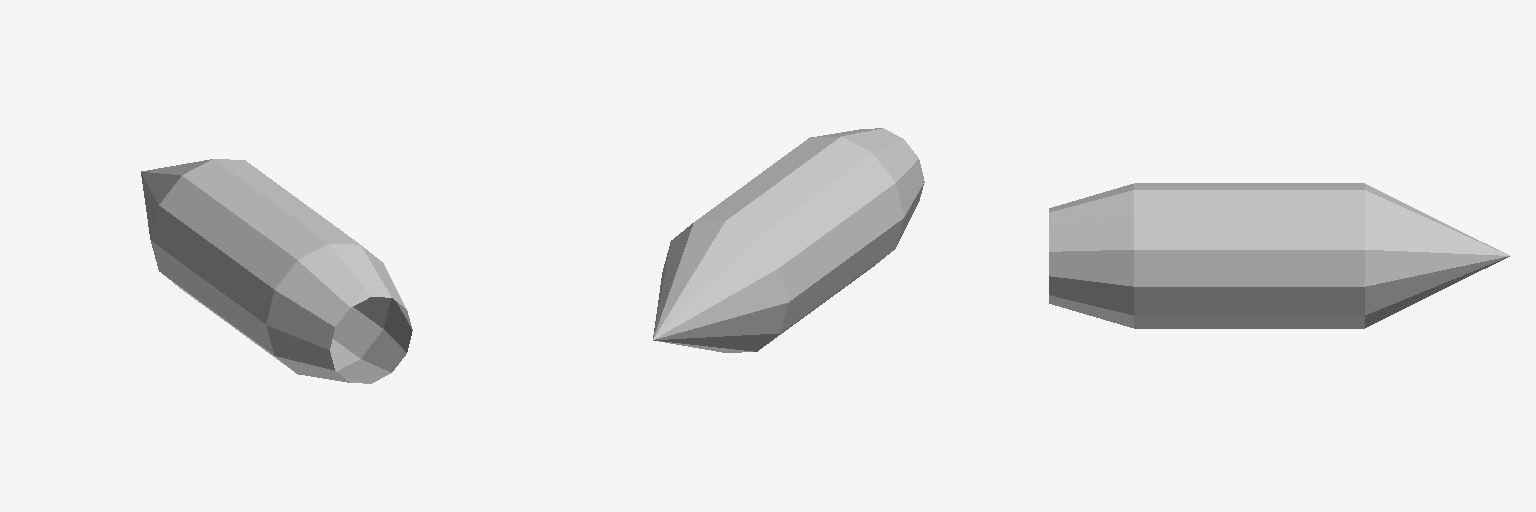
File: MissileTop.obj
3 renders of one model, left to right at view 1: azimuth 30°, elevation 25°; view 2: azimuth 150°, elevation 25°; view 3: azimuth 270°, elevation 25°, orthographic.
Parts seen in each view (by area): view 1: Cone_Cone.001; view 2: Cone_Cone.001; view 3: Cone_Cone.001.
Part boxes in pixels (x1,y1,x2,y2): Cone_Cone.001: (141,159,412,383); Cone_Cone.001: (653,128,924,352); Cone_Cone.001: (1049,183,1509,328).
Size of the model in its own units: 10.44 by 10.44 by 33.07.